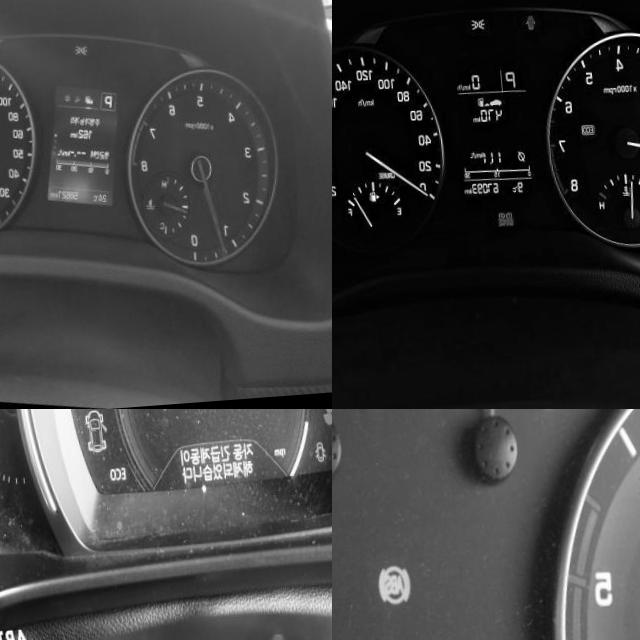Doors: (308, 446, 320, 469), (522, 20, 533, 36)
SideLamp: (70, 47, 85, 61), (467, 22, 482, 36)
